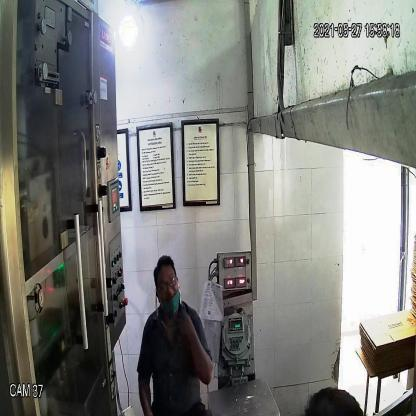goggles: (152, 274, 180, 296)
